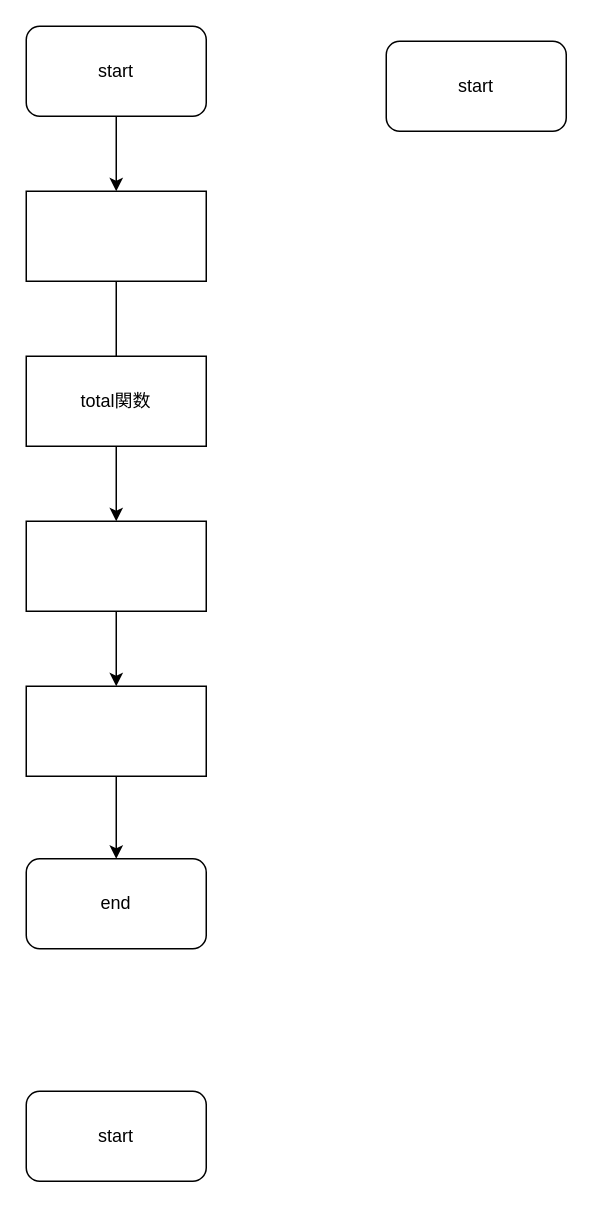
The diagram is 593 pixels wide and 1208 high, and some of its shapes have lost their labels. Here are the shapes that lost their labels. From the top down, the box of each, then its label:
(25, 190, 206, 281): input関数
(25, 520, 206, 611): clac_statics関数
(25, 685, 206, 776): print関数
